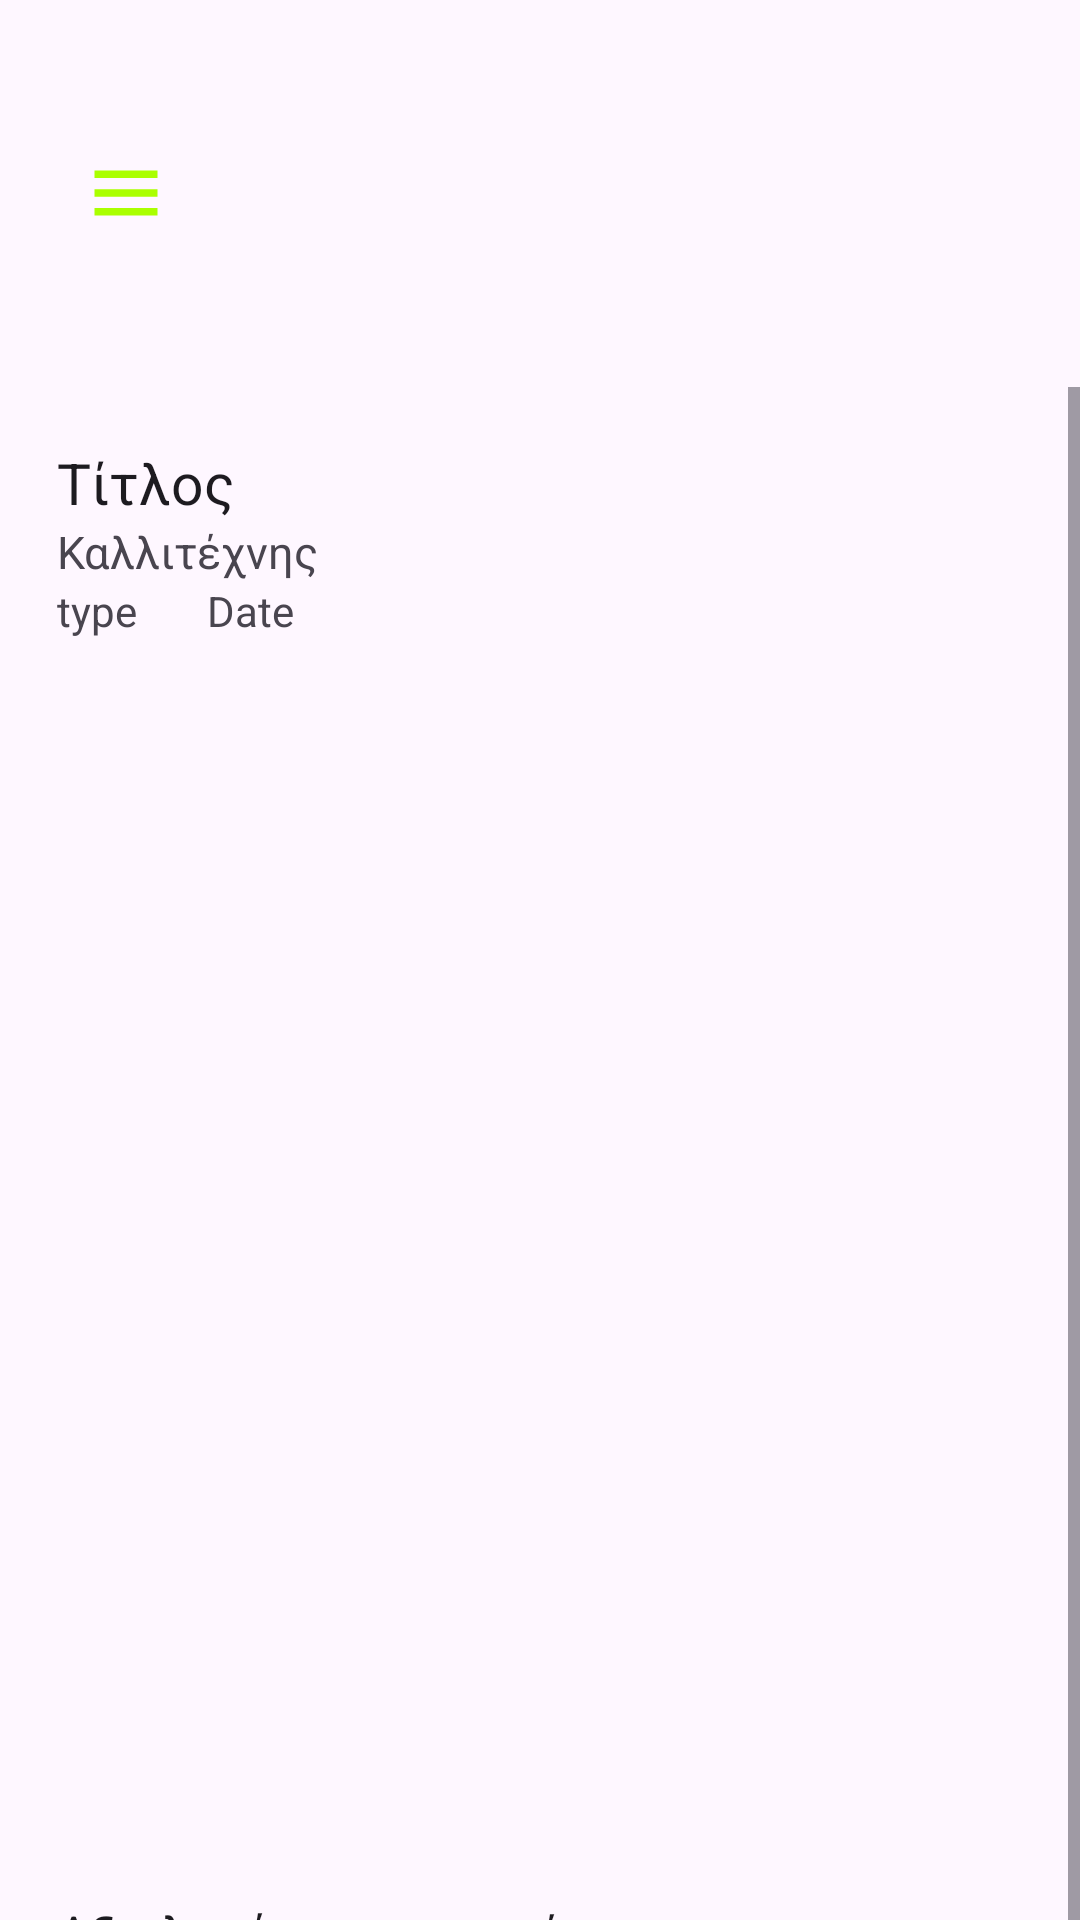

Icons on this 1080px×1920px Android screen, each with the point to tap as [x,y]:
Menu: [126,193]
